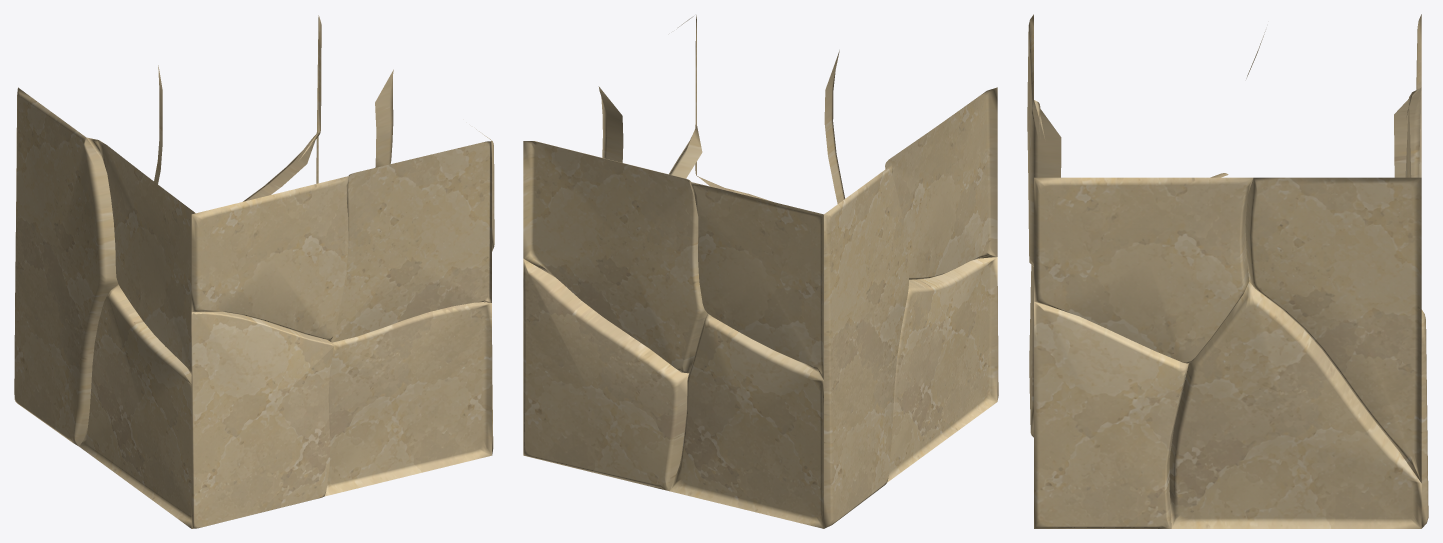
Rendered from GroundRock04.glb.
3 renders of one model, left to right at view 1: azimuth 30°, elevation 25°; view 2: azimuth 150°, elevation 25°; view 3: azimuth 270°, elevation 25°, orthographic. The views are drawn at different scales.
Visible parts, largest first — view 1: ground_rock_04; view 2: ground_rock_04; view 3: ground_rock_04.
Boxes of the visible parts, x1,y1,x2,y2 form: ground_rock_04: [14, 15, 494, 528]; ground_rock_04: [523, 15, 998, 528]; ground_rock_04: [1027, 14, 1428, 528].
Size of the model in its own units: 1.04 by 1 by 1.04.
Materials: 16 (16 with a texture image).
